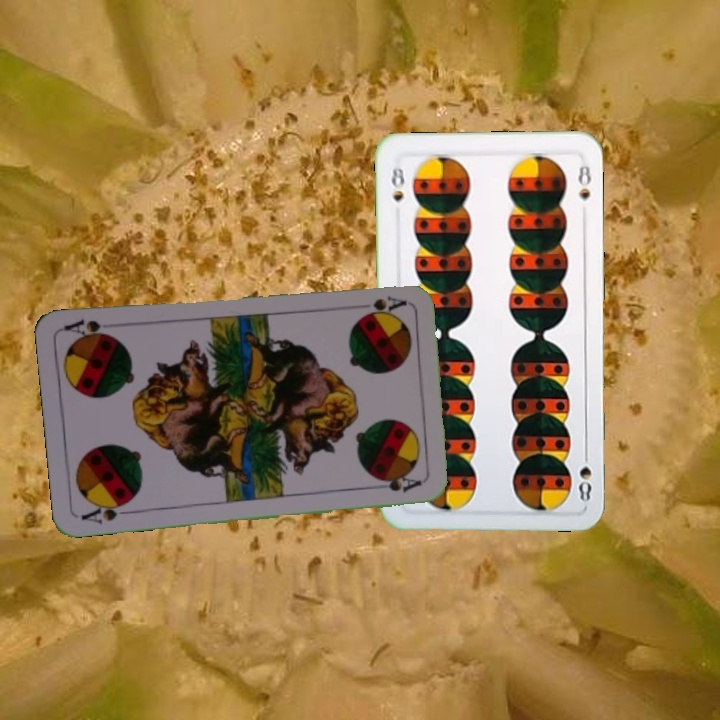S8: (574, 445, 594, 504), (387, 162, 408, 205)
SA: (77, 496, 136, 527), (348, 292, 408, 313)
